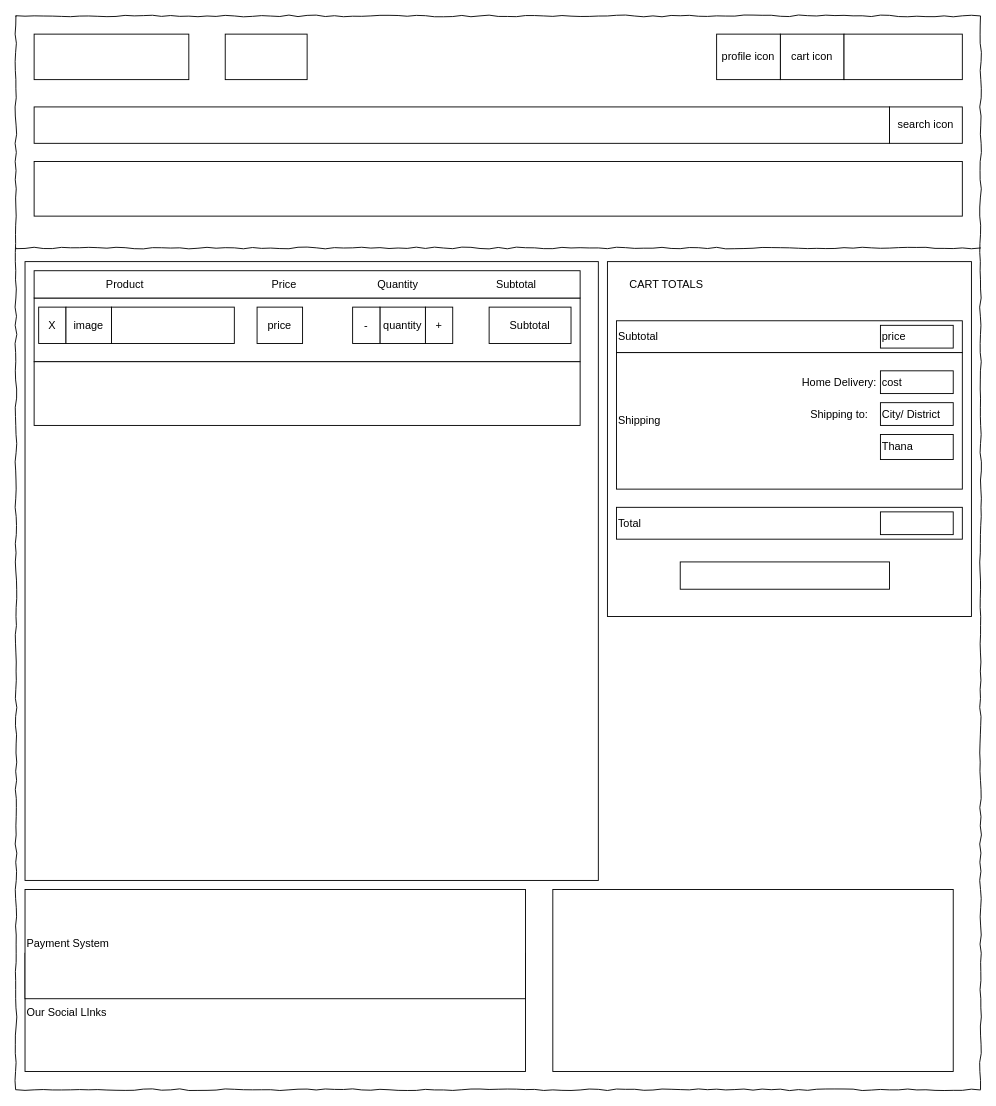
Some shapes in this 996 by 1106 pixel diagram are drawn without their labels. Here are the shapes that lost their labels. From the top down, the centre of each, then its label:
At (111,56): "Logo".
At (265,56): "Videos".
At (902,56): "Logi in / register + icon".
At (461,124): "Search for Products".
At (497,188): "Categories".
At (172,325): "Title".
At (306,393): "same as above".
At (916,523): "charge".
At (784,575): "Proceed to checkout".
At (752,980): "Contact Address".
